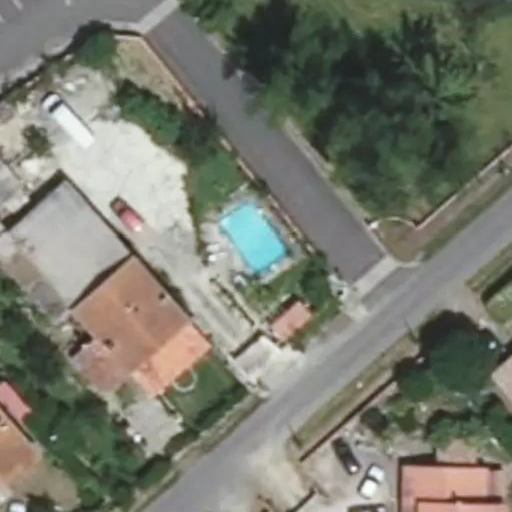pool: (223, 226, 288, 257)
